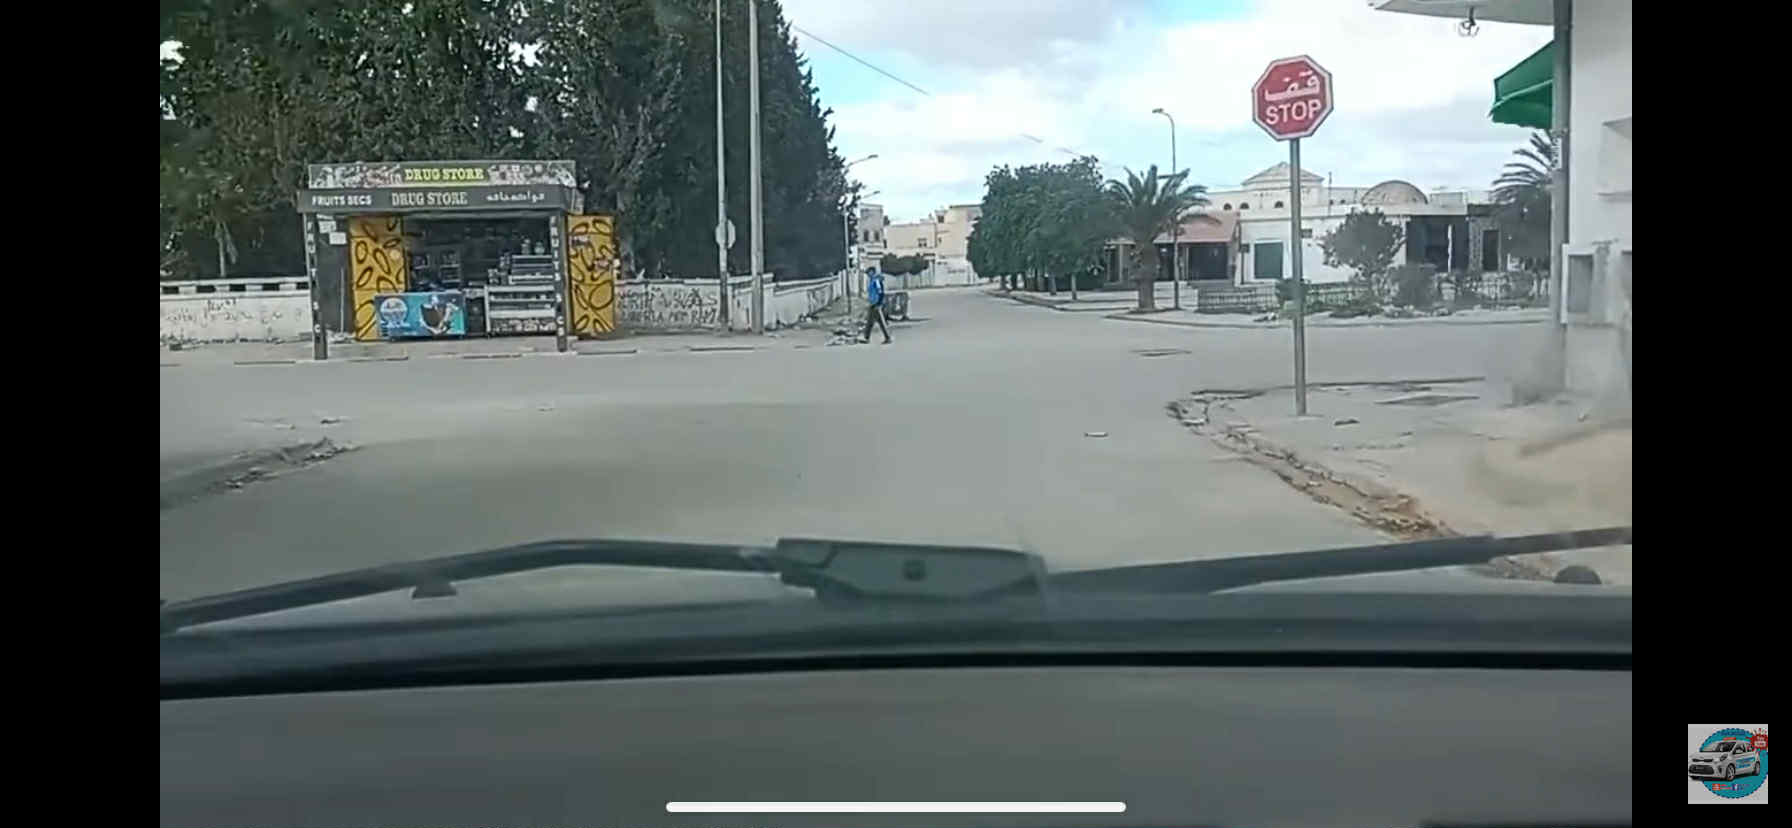Stop: (1251, 54, 1335, 142)
